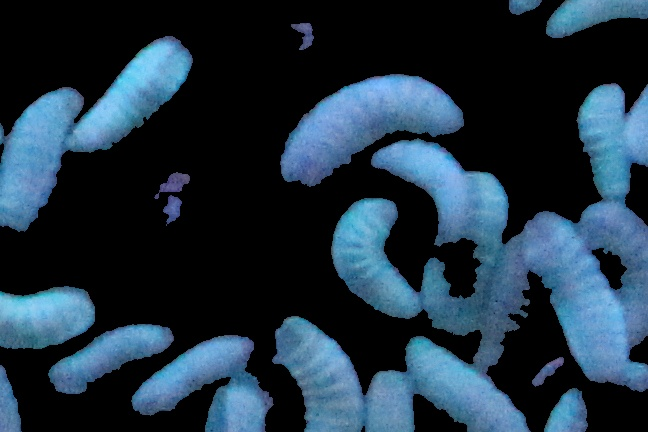larvae: (285, 73, 464, 183), (422, 170, 509, 331), (75, 35, 191, 153), (1, 85, 82, 238), (411, 339, 526, 432), (271, 319, 363, 432), (545, 222, 618, 364), (579, 201, 648, 344), (134, 340, 256, 416), (334, 196, 411, 315), (47, 326, 172, 395), (382, 133, 466, 233), (480, 233, 532, 372), (586, 98, 638, 210), (1, 284, 92, 331), (359, 361, 417, 432), (542, 2, 648, 40), (549, 391, 594, 432)
